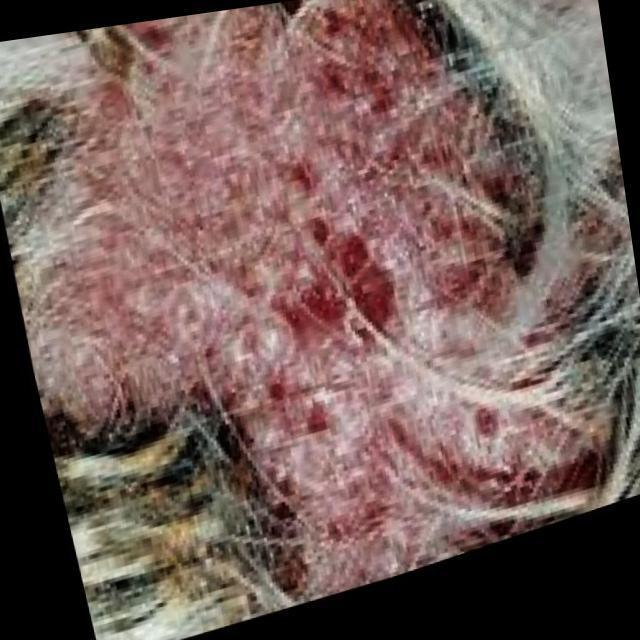fungal infection: (240, 232, 432, 442), (120, 27, 274, 233), (286, 0, 416, 244), (39, 248, 209, 396), (284, 454, 454, 587), (421, 74, 512, 300), (437, 389, 537, 457)
